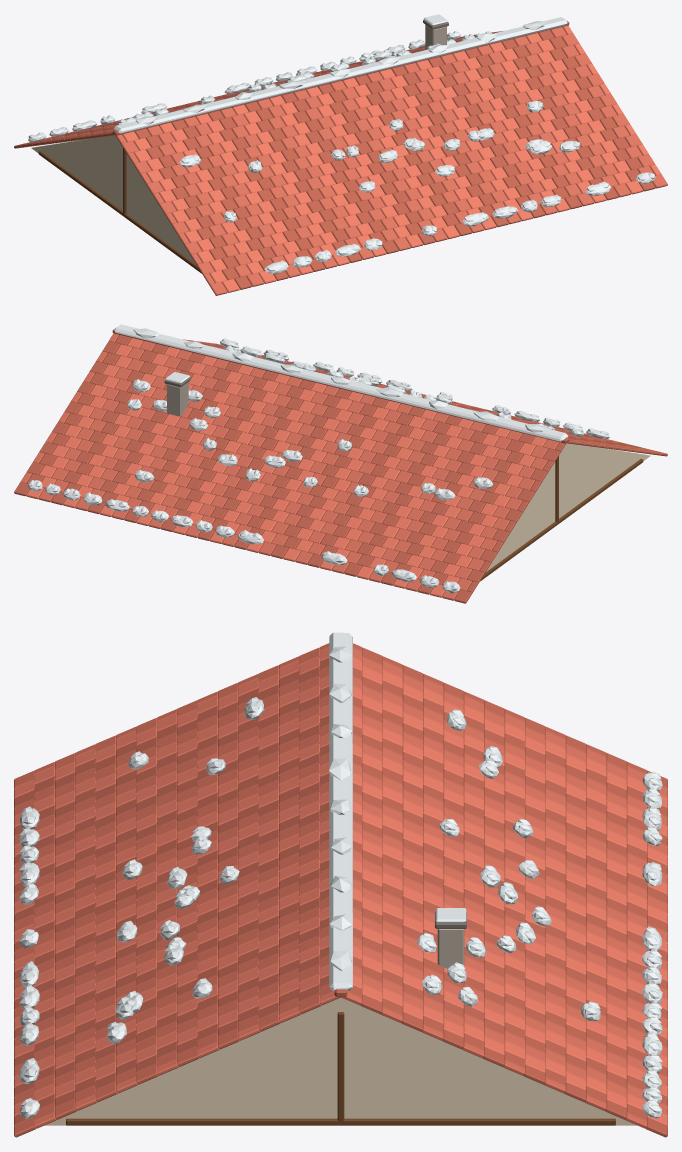
Rendered from arcade_roof.glb.
The picture shows the model from 3 angles, top to bottom: view 1: azimuth 30°, elevation 25°; view 2: azimuth 150°, elevation 25°; view 3: azimuth 270°, elevation 25°; orthographic projection. The views are drawn at different scales.
Parts seen in each view (by area): view 1: arcade_roof; view 2: arcade_roof; view 3: arcade_roof.
Part boxes in pixels (left/top/right/bottom): arcade_roof: left=14, top=14, right=667, bottom=295; arcade_roof: left=14, top=324, right=667, bottom=603; arcade_roof: left=14, top=632, right=667, bottom=1137.
Bounding box in the file's own units: 13.28 × 2.74 × 10.27.
